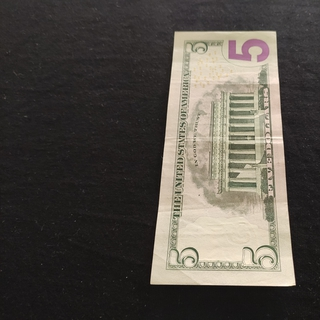5USDBack: (150, 29, 297, 287)
